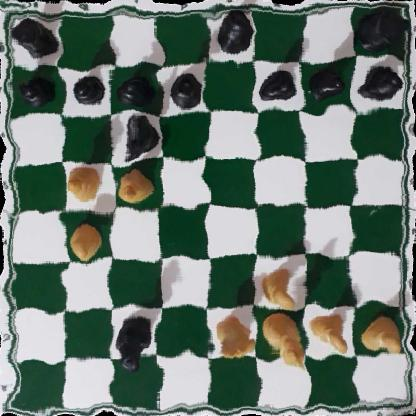black-bishop: (168, 70, 210, 116)
black-king: (212, 10, 252, 56)
black-knight: (118, 114, 161, 163)
black-pawn: (360, 62, 399, 105), (257, 63, 295, 103), (306, 64, 346, 101), (114, 72, 153, 106), (71, 67, 104, 107), (14, 72, 52, 106)
black-queen: (113, 311, 158, 373)
black-rook: (358, 5, 410, 52), (10, 14, 58, 60)
white-bishop: (113, 167, 153, 207), (64, 164, 105, 202)
white-king: (260, 312, 304, 371)
white-knight: (212, 315, 256, 363)
white-pawn: (258, 261, 300, 308), (310, 308, 349, 355), (361, 313, 403, 353), (69, 224, 101, 259)
